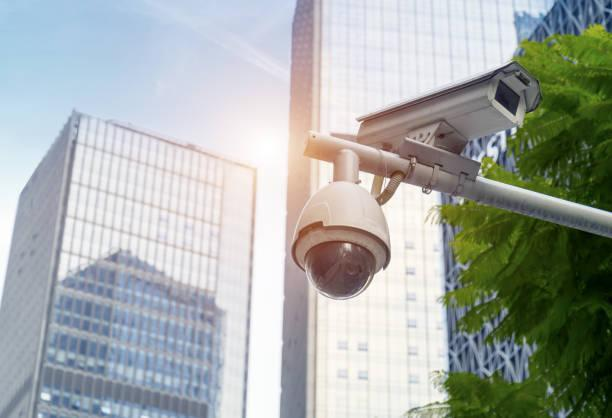camera: (343, 53, 572, 183), (257, 169, 440, 323)
